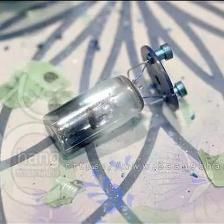light_bulb: (39, 37, 191, 162)
